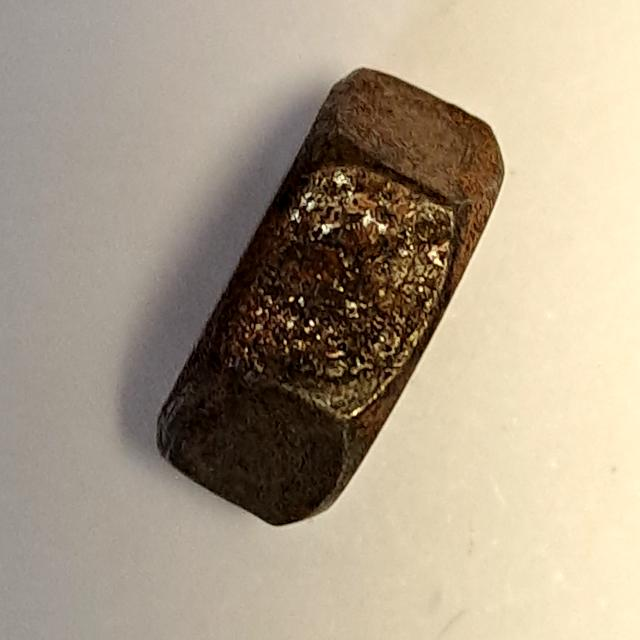Side_Rust: (141, 55, 513, 547)
